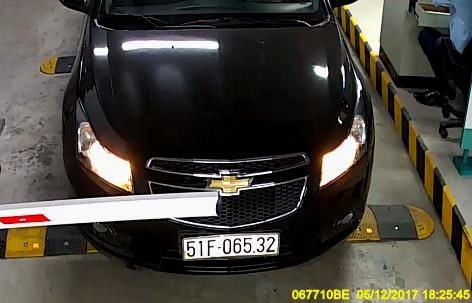plate: (181, 232, 281, 263)
